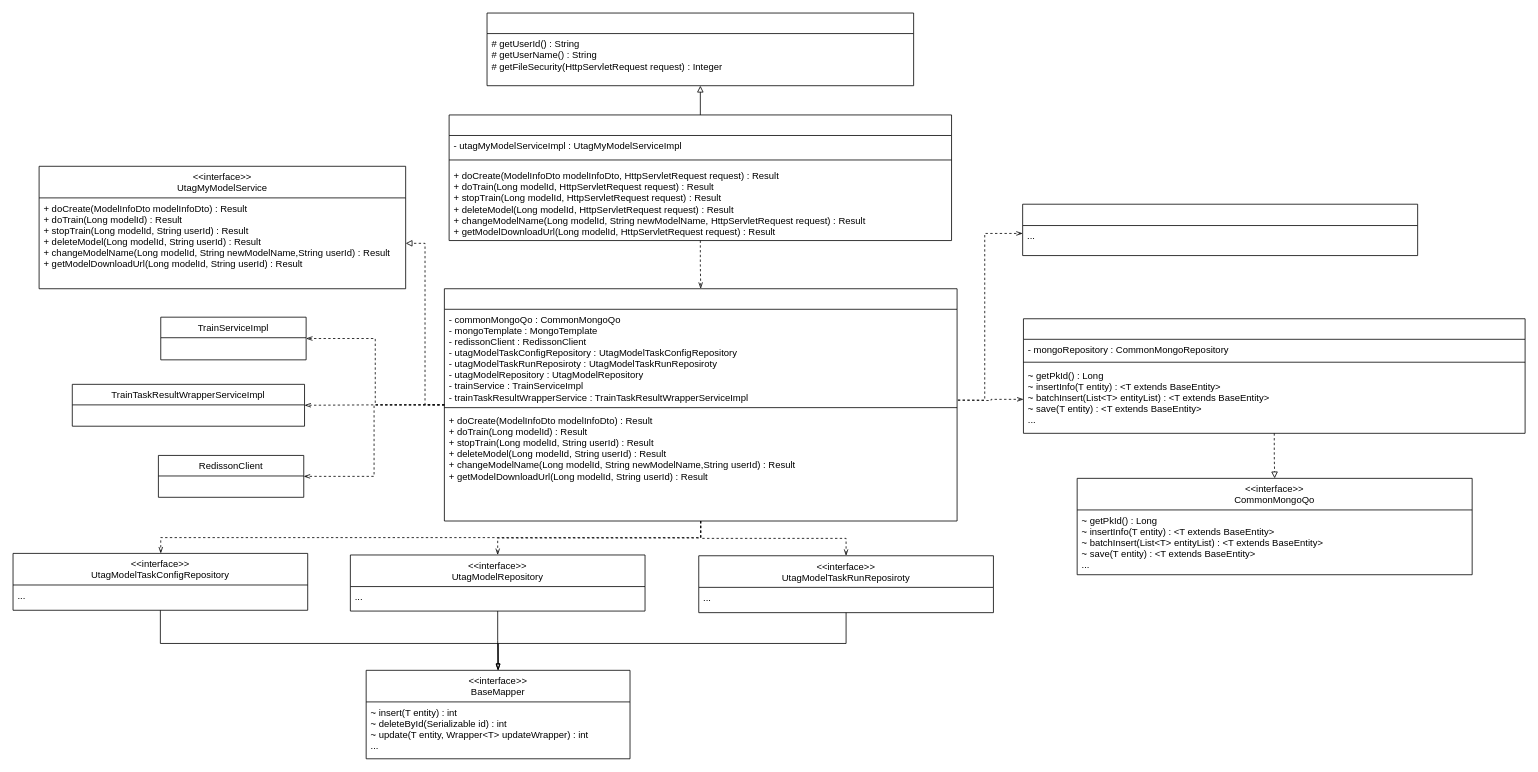
Image size: 1538x772. Some labels were removed from this diagram. Each missing label, with the box of its shape:
BaseController: (486, 12, 914, 86)
CommonMongoQoImpl: (1023, 318, 1525, 433)
MongoTemplate: (1022, 203, 1418, 256)
UtagMyModelController: (448, 114, 952, 241)
UtagMyModelServiceImpl: (444, 288, 957, 521)
